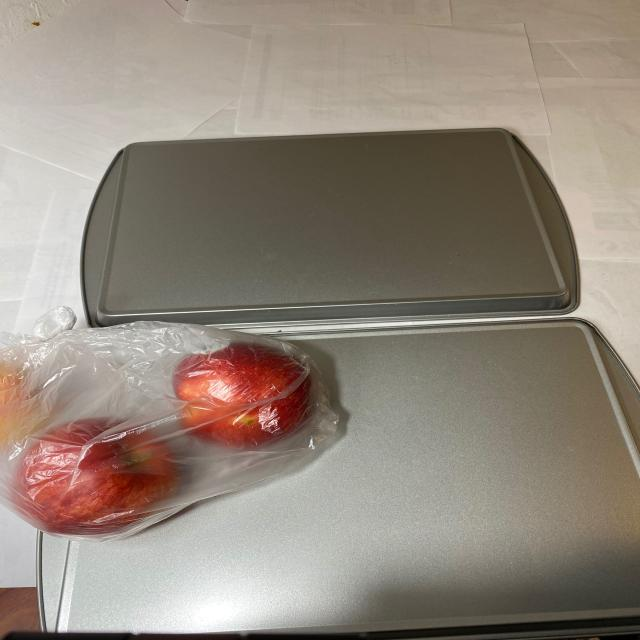apple: (0, 338, 318, 544)
